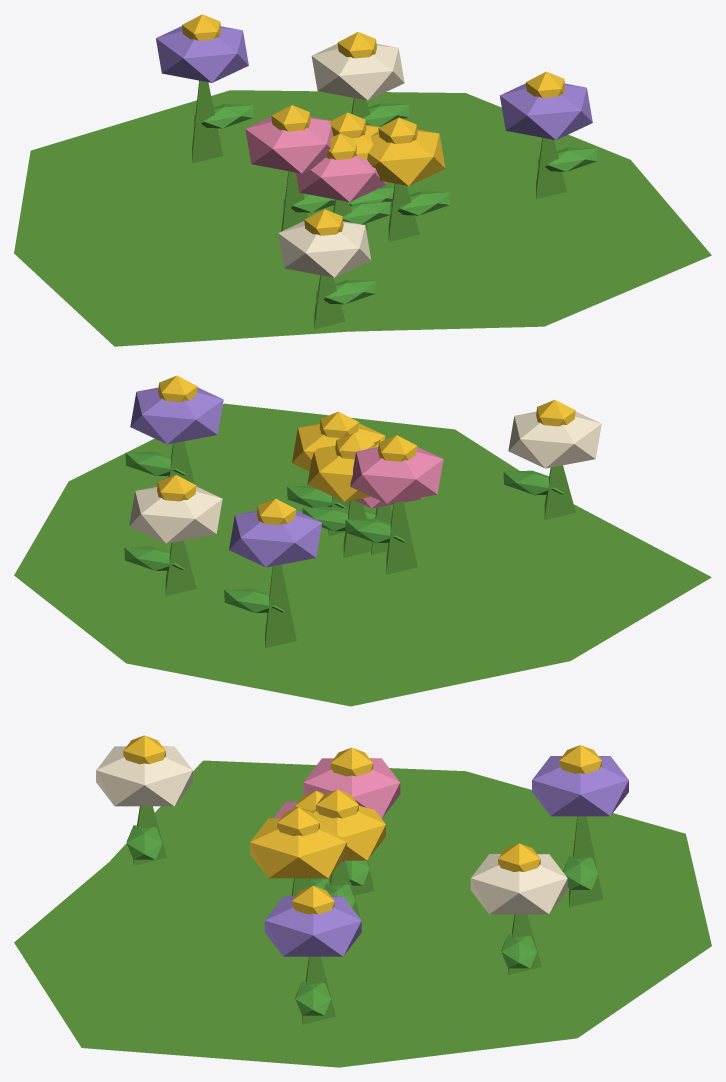
Rendered from flowers.fbx.
3 renders of one model, top to bottom at view 1: azimuth 30°, elevation 25°; view 2: azimuth 150°, elevation 25°; view 3: azimuth 270°, elevation 25°, orthographic. The views are drawn at different scales.
Visible parts, largest first — view 1: flowers; view 2: flowers; view 3: flowers.
Part boxes in pixels (x1,y1,x2,y2): flowers: [14, 14, 711, 346]; flowers: [14, 375, 711, 706]; flowers: [14, 735, 711, 1067].
Bounding box in the file's own units: 0.2168 × 0.0518 × 0.2083.
